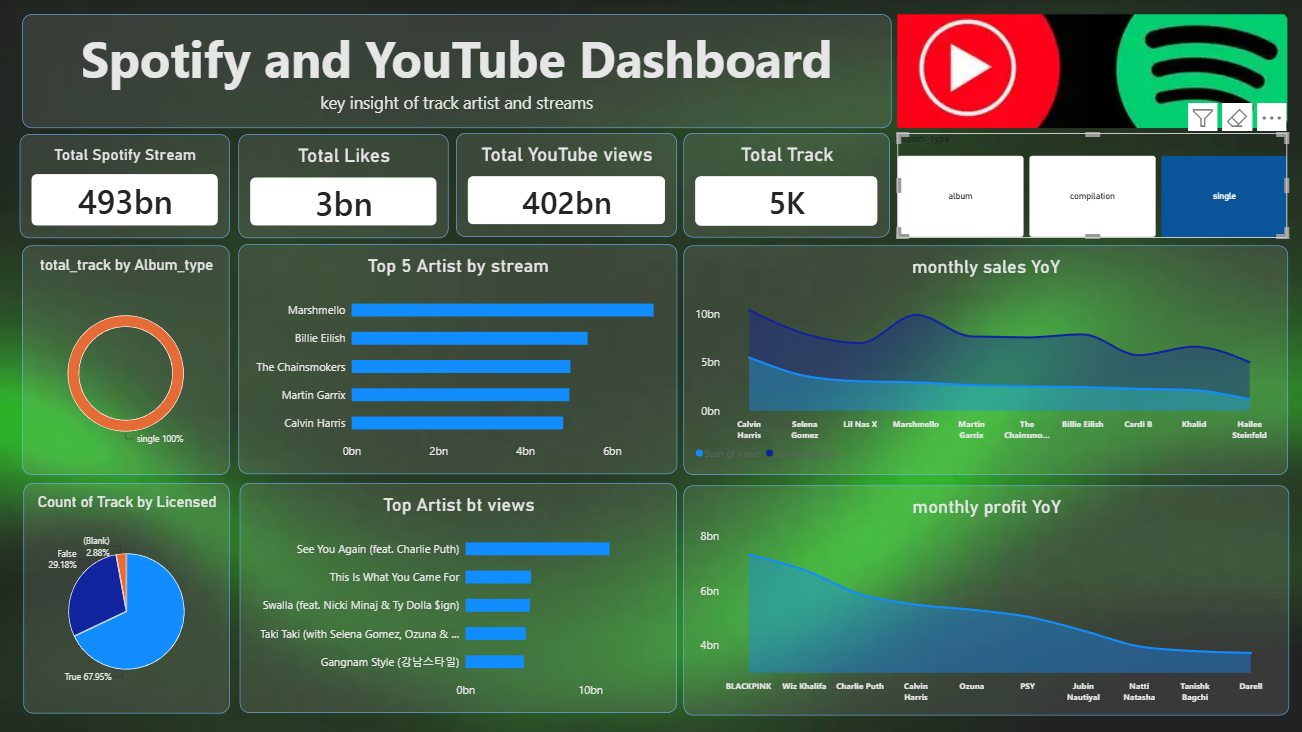

The dashboard page shown, as its layout file describes it:
{"tool":"powerbi","page":{"name":"Page 1","canvas":[1920,1080],"ordinal":0},"visuals":[{"type":"clusteredBarChart","title":"Top Artist bt views","fields":{"Category":["Spotify_Youtube.Track"],"Y":["Sum(Spotify_Youtube.Views)"]},"box":[353,703,633,333],"z":0},{"type":"stackedAreaChart","title":"monthly sales YoY","fields":{"Category":["Spotify_Youtube.Artist"],"Y":["Sum(Spotify_Youtube.Views)","Sum(Spotify_Youtube.Stream)"]},"box":[996,359,875,332],"z":1000},{"type":"stackedAreaChart","title":"monthly profit YoY","fields":{"Category":["Spotify_Youtube.Artist"],"Y":["Sum(Spotify_Youtube.Views)"]},"box":[996,705,877,333],"z":2000},{"type":"donutChart","fields":{"Series":["Spotify_Youtube.Album_type"],"Y":["Spotify_Youtube.total_track"]},"box":[38,358,300,332],"z":3000},{"type":"pieChart","fields":{"Category":["Spotify_Youtube.Licensed"],"Y":["CountNonNull(Spotify_Youtube.Track)"]},"box":[39.1,701.9,298.5,333.4],"z":4000},{"type":"textbox","box":[37.3,22.7,1258.2,164.5],"z":5000},{"type":"cardVisual","title":"Total Spotify Stream ","fields":{"Data":["Sum(Spotify_Youtube.Stream)"]},"box":[34.5,196.4,304,150],"z":6000},{"type":"cardVisual","title":"Total Likes","fields":{"Data":["Sum(Spotify_Youtube.Likes)"]},"box":[351.8,196.4,304,150],"z":7000},{"type":"cardVisual","title":"Total YouTube views","fields":{"Data":["Sum(Spotify_Youtube.Views)"]},"box":[665.7,195.7,320,150],"z":8000},{"type":"cardVisual","title":"Total Track","fields":{"Data":["Spotify_Youtube.total_track"]},"box":[995.7,195.7,298.6,151.4],"z":9000},{"type":"clusteredBarChart","title":"Top 5 Artist by stream","fields":{"Category":["Spotify_Youtube.Artist"],"Y":["Sum(Spotify_Youtube.Stream)"]},"box":[351,357,635,333],"z":10000},{"type":"advancedSlicerVisual","fields":{"Values":["Spotify_Youtube.Album_type"]},"box":[1305,196,565,151],"z":12000},{"type":"image","box":[1305,23,565,165],"z":12001}]}

Visuals, with their boxes in screenshot pixels (x1, y1, x2, y2):
"Top Artist bt views" clusteredBarChart: locate(235, 481, 673, 712)
"monthly sales YoY" stackedAreaChart: locate(680, 242, 1287, 472)
"monthly profit YoY" stackedAreaChart: locate(680, 482, 1288, 713)
donutChart - Spotify_Youtube.Album_type x Spotify_Youtube.total_track: locate(16, 241, 224, 472)
pieChart - Spotify_Youtube.Licensed x CountNonNull(Spotify_Youtube.Track): locate(17, 480, 224, 711)
textbox: locate(16, 9, 888, 123)
"Total Spotify Stream " cardVisual: locate(14, 129, 225, 233)
"Total Likes" cardVisual: locate(234, 129, 445, 233)
"Total YouTube views" cardVisual: locate(451, 129, 673, 233)
"Total Track" cardVisual: locate(680, 129, 887, 234)
"Top 5 Artist by stream" clusteredBarChart: locate(233, 241, 673, 472)
advancedSlicerVisual - Spotify_Youtube.Album_type: locate(895, 129, 1286, 234)
image: locate(895, 9, 1286, 124)
